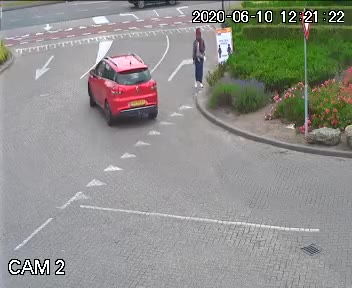car: (81, 51, 160, 124)
